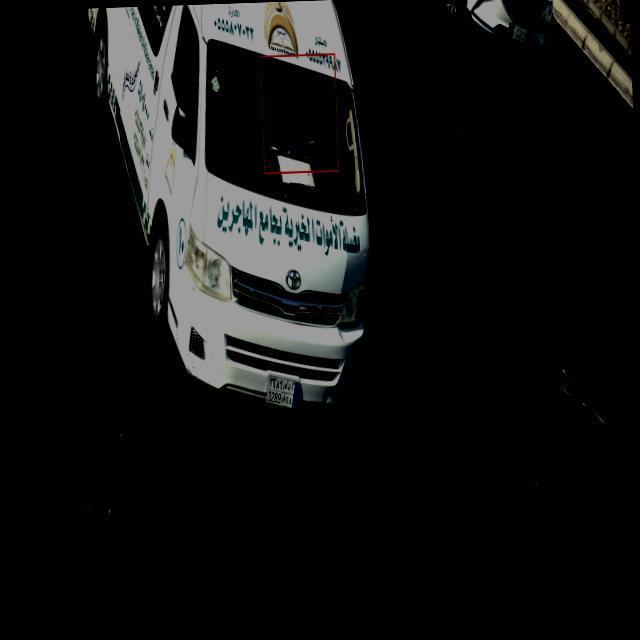windshield: (202, 39, 368, 220)
